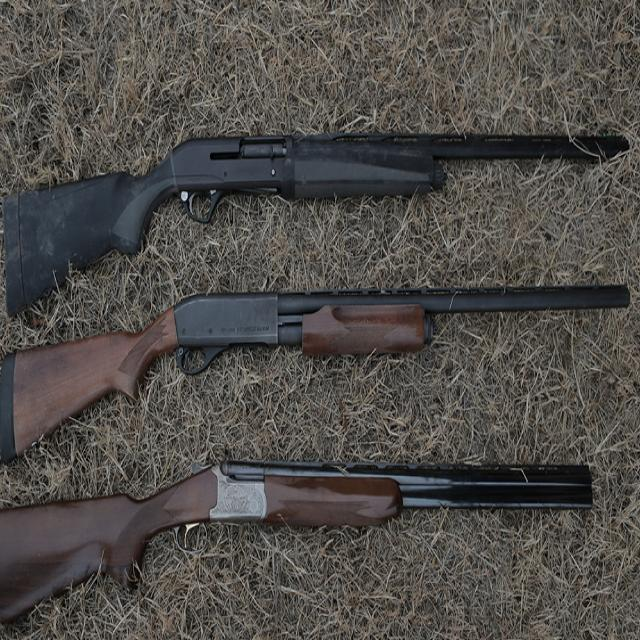Weapon: (3, 133, 627, 314), (2, 285, 629, 441), (0, 461, 591, 621)
